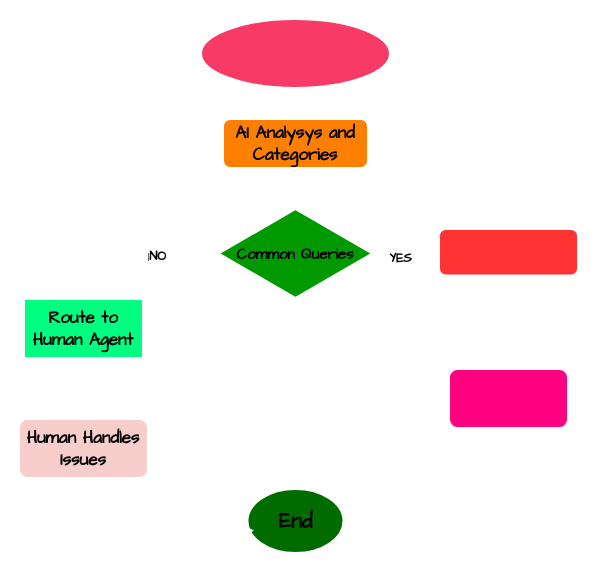
The diagram is 597 pixels wide and 572 high, and some of its shapes have lost their labels. The shapes that lost their labels are listed below. From the top down, each one's centre as x and y in pixels, then its label:
(295,53): Incoming E-Mails/Tickets
(508,251): Suggest/Generate response
(508,398): Send Responses
